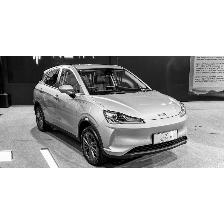EV: (33, 64, 190, 167)
